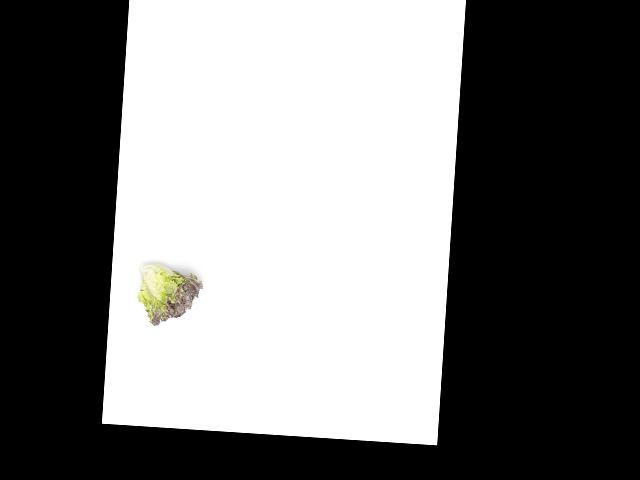lettuce: (133, 262, 208, 327)
